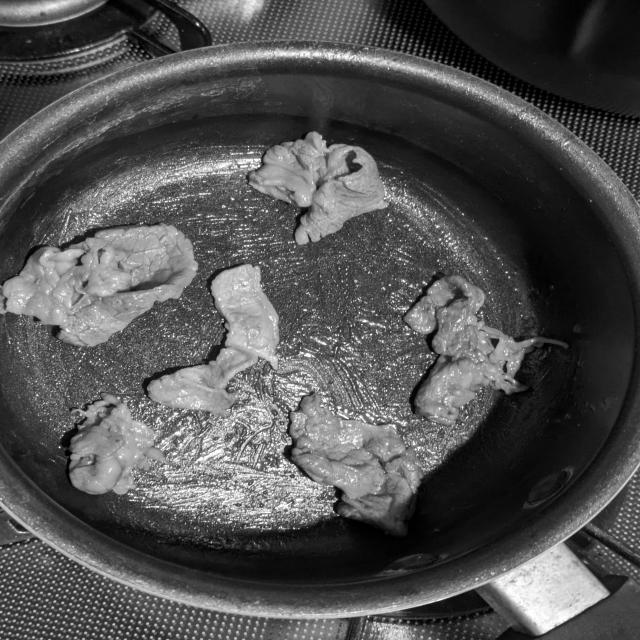OK undercooked beef,: (0, 212, 206, 358), (268, 380, 429, 550), (137, 261, 281, 425), (400, 266, 531, 435), (244, 125, 402, 255), (47, 381, 172, 499)
